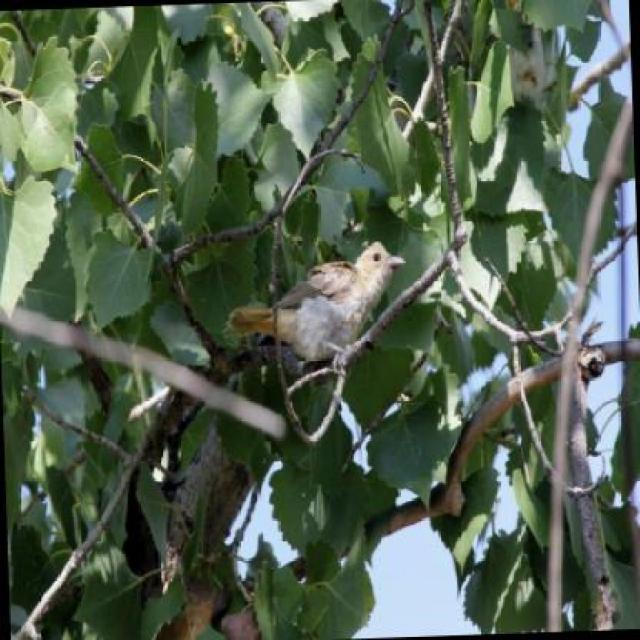Bird: (214, 229, 410, 367)
